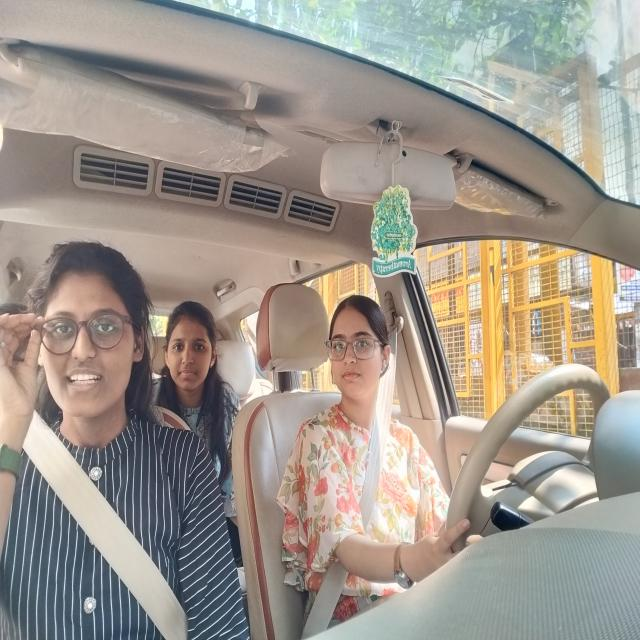LeftRight: (330, 296, 389, 406)
person: (31, 250, 142, 423), (164, 299, 221, 395)
